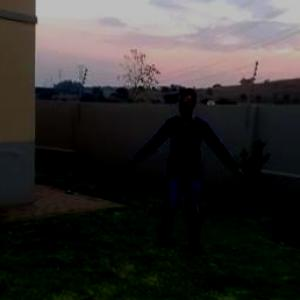land: (126, 79, 244, 256)
